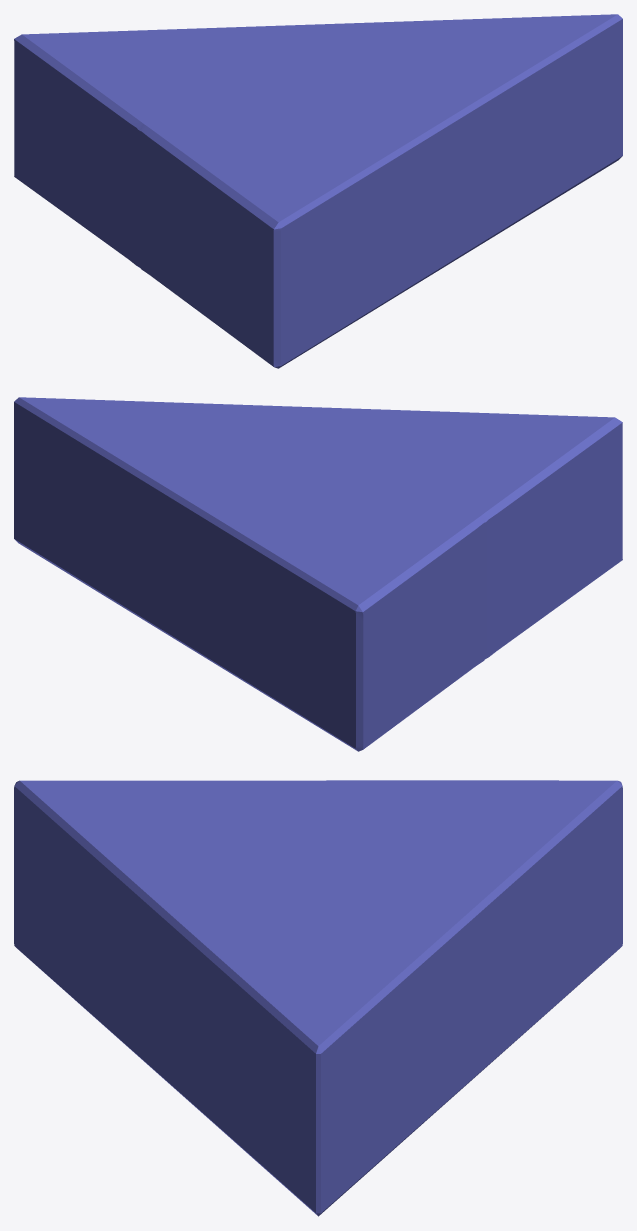
Rendered from Triangulo_04.fbx.
3 views of the same model, one above another, from view 1: azimuth 30°, elevation 25°; view 2: azimuth 150°, elevation 25°; view 3: azimuth 270°, elevation 25° (orthographic). The views are drawn at different scales.
Parts seen in each view (by area): view 1: polySurface52; view 2: polySurface52; view 3: polySurface52.
Boxes of the visible parts, x1=… form: polySurface52: x1=14, y1=14, x2=622, y2=368; polySurface52: x1=14, y1=397, x2=622, y2=751; polySurface52: x1=14, y1=780, x2=622, y2=1216.
Size of the model in its own units: 3.28 by 0.961 by 3.11.
